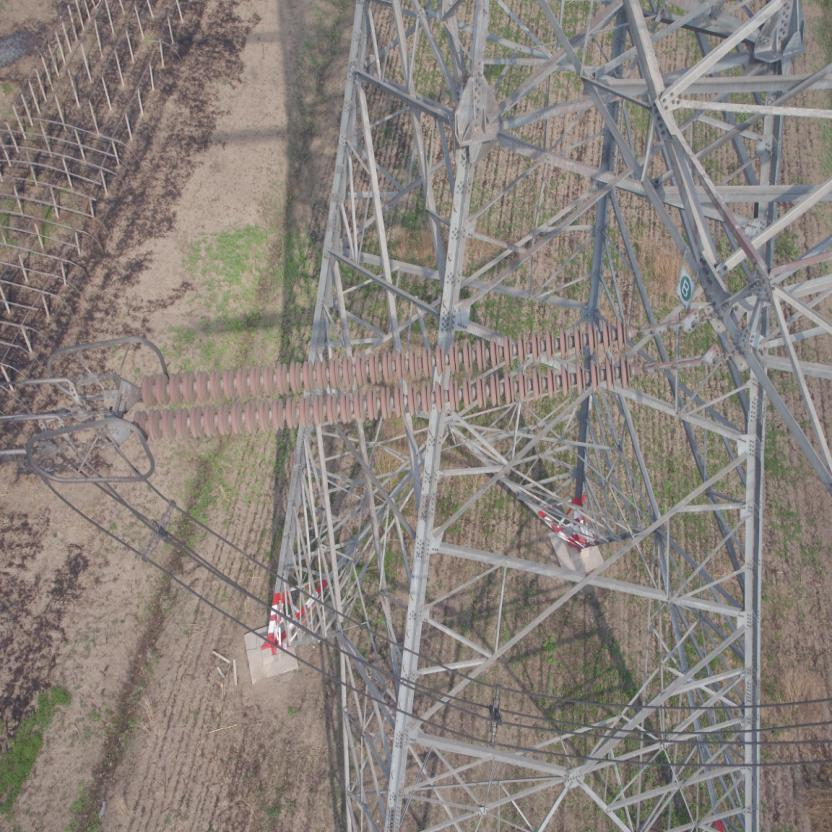insulator: (126, 315, 655, 440)
